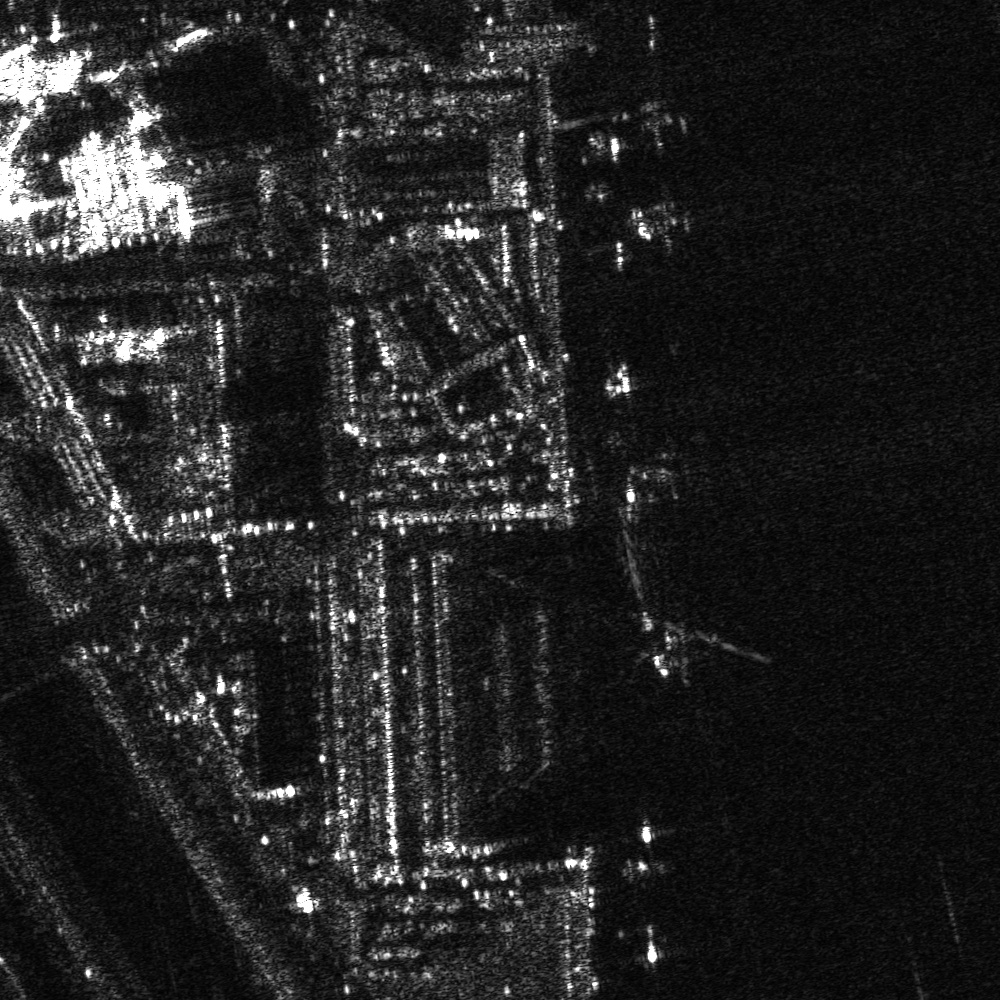A220: (634, 597, 718, 694), (602, 94, 698, 159), (622, 182, 700, 259)
